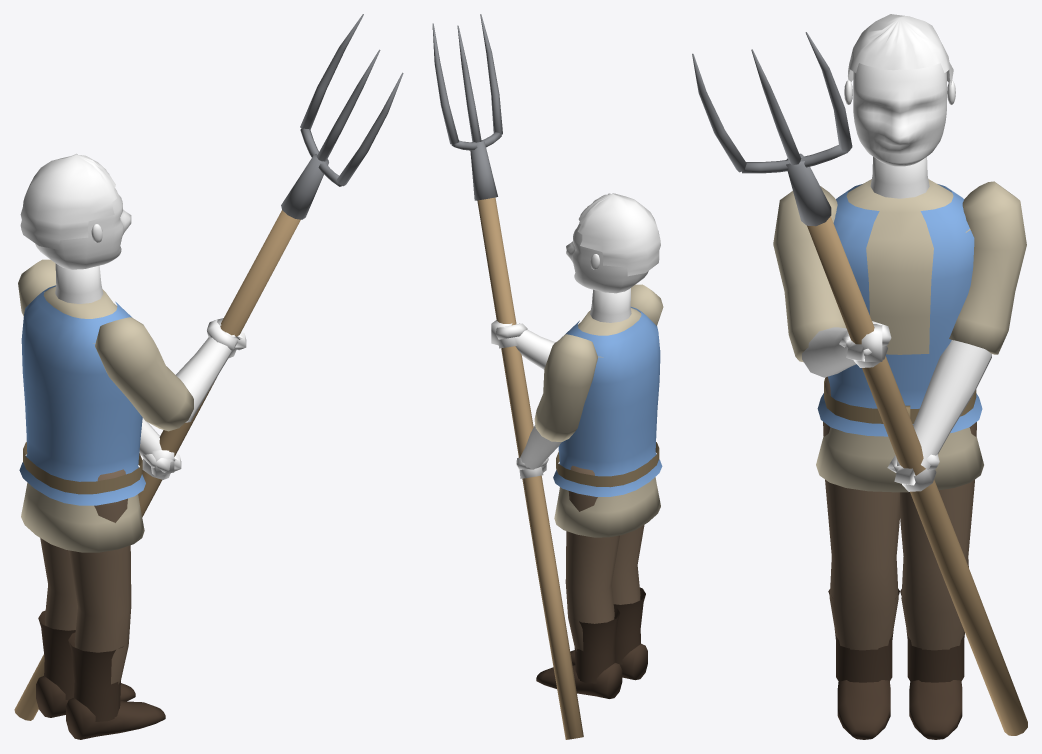
The model's file is peasant.glb.
3 renders of one model, left to right at view 1: azimuth 30°, elevation 25°; view 2: azimuth 150°, elevation 25°; view 3: azimuth 270°, elevation 25°, orthographic. The views are drawn at different scales.
Parts seen in each view (by area): view 1: Vest_Team, Leg_R, Hair, Arm_R, Torso, Boot_R, Weapon, Weapon_Head, Boot_L, Head, Leg_L, Forearm_R (+5 smaller); view 2: Vest_Team, Weapon, Leg_L, Hair, Torso, Arm_L, Weapon_Head, Boot_L, Boot_R, Head, Leg_R, Belt (+5 smaller); view 3: Torso, Weapon, Vest_Team, Leg_R, Arm_L, Head, Leg_L, Weapon_Head, Arm_R, Forearm_L, Boot_L, Boot_R (+6 smaller).
Part boxes in pixels (x1,y1,x2,y2): Vest_Team: (19,285,145,505); Leg_R: (68,469,131,684); Hair: (20,153,116,249); Arm_R: (95,317,193,431); Torso: (21,286,144,552); Boot_R: (66,632,165,739); Weapon: (14,210,300,720); Weapon_Head: (281,14,403,219); Boot_L: (36,610,135,717); Head: (35,188,131,269); Leg_L: (40,538,77,630); Forearm_R: (176,331,237,422); Vest_Team: (553,307,662,496); Weapon: (477,197,583,739); Leg_L: (565,465,619,650); Hair: (577,193,660,276); Torso: (554,308,660,537); Arm_L: (534,334,597,441); Weapon_Head: (432,14,502,200); Boot_L: (536,606,622,698); Boot_R: (570,587,647,680); Head: (566,223,648,293); Leg_R: (611,525,644,604); Belt: (556,442,659,487); Torso: (816,179,983,492); Weapon: (807,216,1027,735); Vest_Team: (817,184,982,436); Leg_R: (823,376,899,650); Arm_L: (949,181,1026,354); Head: (853,63,946,166); Leg_L: (900,422,976,650); Weapon_Head: (692,32,852,226); Arm_R: (773,186,846,362); Forearm_L: (913,340,991,469); Boot_L: (900,589,964,739); Boot_R: (828,589,899,739).
Size of the model in its own units: 0.5943 by 1.35 by 0.4868.
